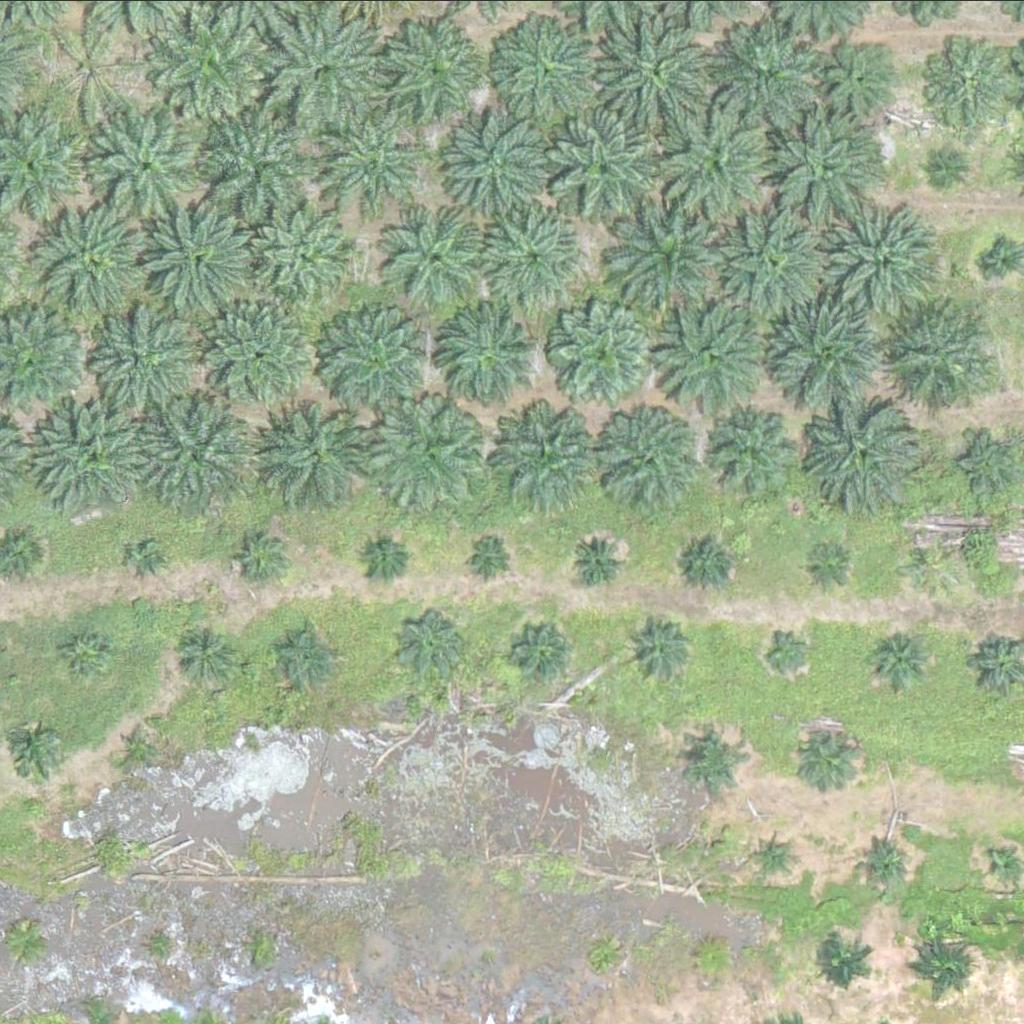Kelapa_Sawit: (607, 188, 733, 313), (801, 390, 927, 515), (715, 205, 829, 318), (660, 295, 774, 408), (545, 297, 659, 410), (377, 393, 491, 506), (600, 14, 713, 127), (701, 28, 814, 141), (824, 207, 937, 320), (766, 294, 879, 407), (881, 303, 994, 416), (36, 396, 149, 509), (138, 395, 251, 508), (253, 395, 366, 508), (201, 112, 314, 225), (93, 104, 206, 217), (154, 8, 267, 121), (272, 12, 385, 125), (377, 16, 490, 129), (322, 303, 435, 416), (761, 115, 875, 227), (496, 401, 610, 513), (659, 104, 772, 216), (32, 197, 145, 309), (139, 201, 252, 313), (317, 105, 430, 217), (549, 109, 662, 221), (41, 18, 142, 118), (205, 298, 306, 398), (91, 302, 192, 402), (259, 201, 360, 301), (497, 19, 598, 119), (442, 112, 543, 212), (391, 204, 492, 304), (594, 407, 695, 507), (484, 203, 584, 303), (438, 299, 538, 399), (922, 39, 1010, 127), (711, 409, 799, 497), (825, 46, 901, 121), (390, 604, 465, 679), (794, 718, 857, 781), (678, 729, 741, 792), (517, 620, 580, 683), (866, 631, 929, 694), (567, 530, 630, 593), (912, 929, 975, 991), (812, 930, 875, 992), (177, 621, 240, 683), (274, 622, 337, 684), (628, 620, 691, 682), (958, 432, 1021, 494), (679, 534, 742, 596), (234, 531, 285, 581), (796, 540, 847, 590), (893, 541, 944, 591), (758, 625, 809, 675), (358, 535, 409, 585), (6, 729, 56, 779), (62, 627, 112, 677), (856, 839, 906, 889), (466, 531, 516, 581), (926, 144, 964, 182), (754, 834, 792, 872), (120, 724, 158, 762), (129, 541, 167, 579), (694, 937, 732, 975)
